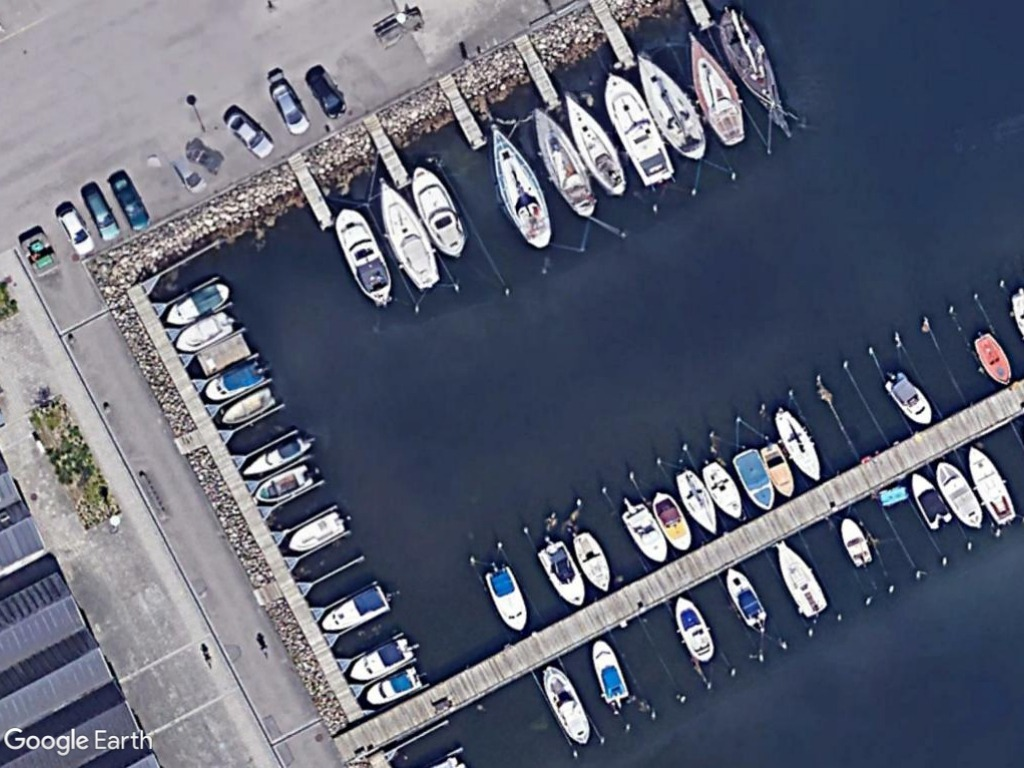boat: (715, 4, 800, 141), (596, 65, 680, 193), (482, 118, 556, 254), (634, 48, 712, 168), (527, 98, 601, 224), (677, 26, 751, 150), (561, 82, 634, 202), (376, 173, 444, 294), (329, 198, 400, 310), (407, 161, 471, 263), (769, 534, 834, 624), (540, 660, 598, 752), (966, 441, 1022, 532), (771, 400, 829, 485), (314, 579, 393, 637), (532, 534, 591, 611), (233, 430, 313, 482), (934, 456, 986, 536), (160, 278, 233, 334), (618, 498, 673, 572), (670, 589, 720, 669), (343, 634, 416, 688), (675, 462, 724, 541), (722, 560, 773, 634), (481, 562, 530, 638), (650, 484, 700, 558), (215, 378, 282, 433), (729, 445, 780, 516), (199, 354, 268, 406), (698, 456, 749, 525), (282, 505, 348, 558), (881, 367, 936, 430), (589, 633, 634, 709), (905, 467, 957, 532), (251, 455, 317, 506), (361, 661, 428, 711), (966, 323, 1014, 391), (169, 306, 236, 352), (569, 526, 613, 594), (757, 438, 800, 504), (839, 510, 879, 575)
car: (220, 106, 280, 163), (265, 79, 314, 139), (303, 67, 354, 124), (52, 202, 100, 262), (80, 183, 124, 245)
other: (109, 167, 157, 236)
